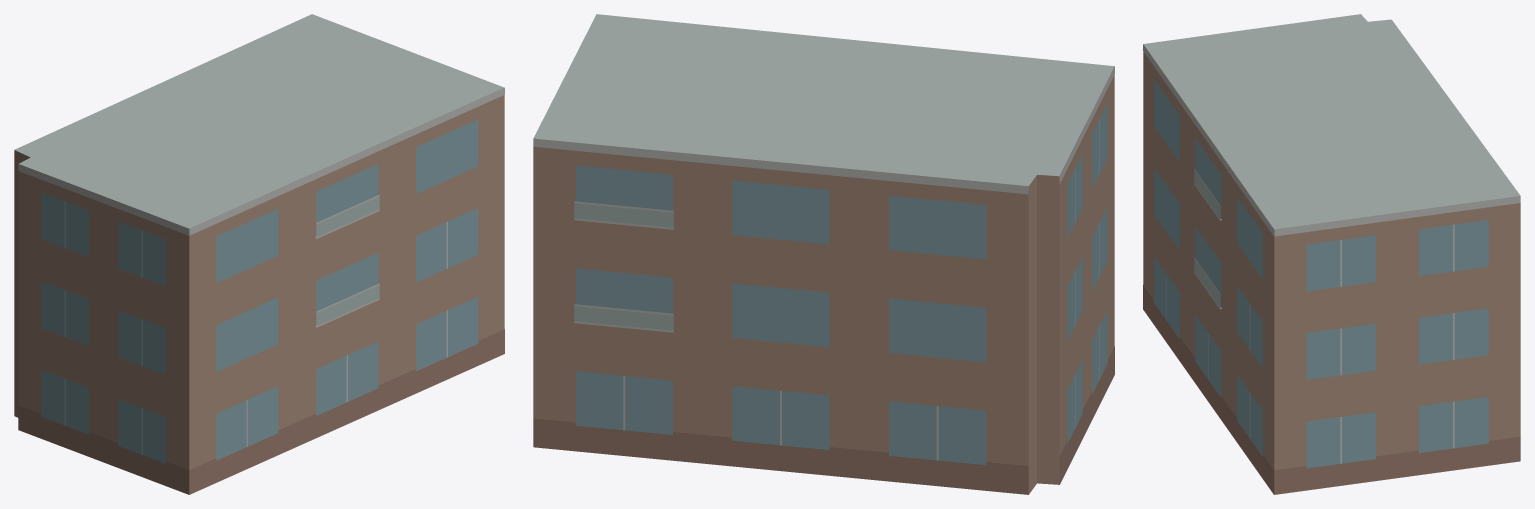
File: survey-upis-32625156.glb
3 views of the same model, side by side, from view 1: azimuth 30°, elevation 25°; view 2: azimuth 150°, elevation 25°; view 3: azimuth 270°, elevation 25° (orthographic). The views are drawn at different scales.
Parts seen in each view (by area): view 1: survey-upis-32625156.tmp; view 2: survey-upis-32625156.tmp; view 3: survey-upis-32625156.tmp.
Boxes of the visible parts, x1,y1,x2,y2 form: survey-upis-32625156.tmp: [14, 14, 504, 494]; survey-upis-32625156.tmp: [533, 14, 1114, 494]; survey-upis-32625156.tmp: [1143, 14, 1520, 494].
Size of the model in its own units: 15.94 by 9.15 by 11.81.
